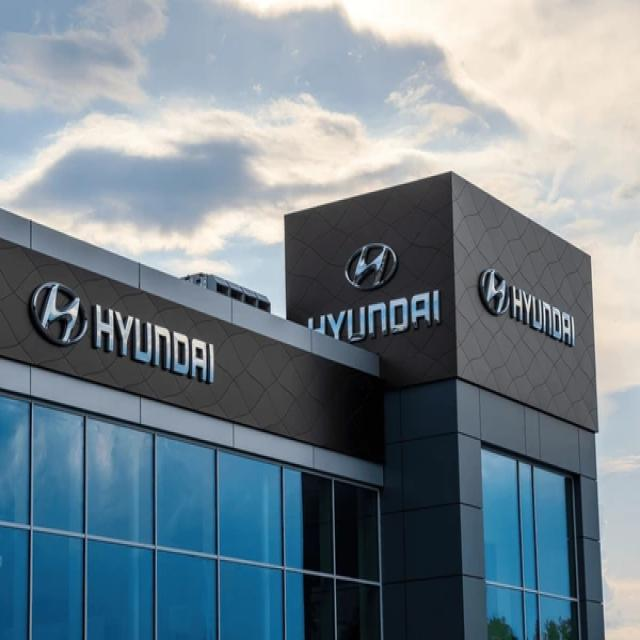hyundai: (30, 275, 90, 351), (345, 244, 401, 291), (476, 266, 511, 316)
